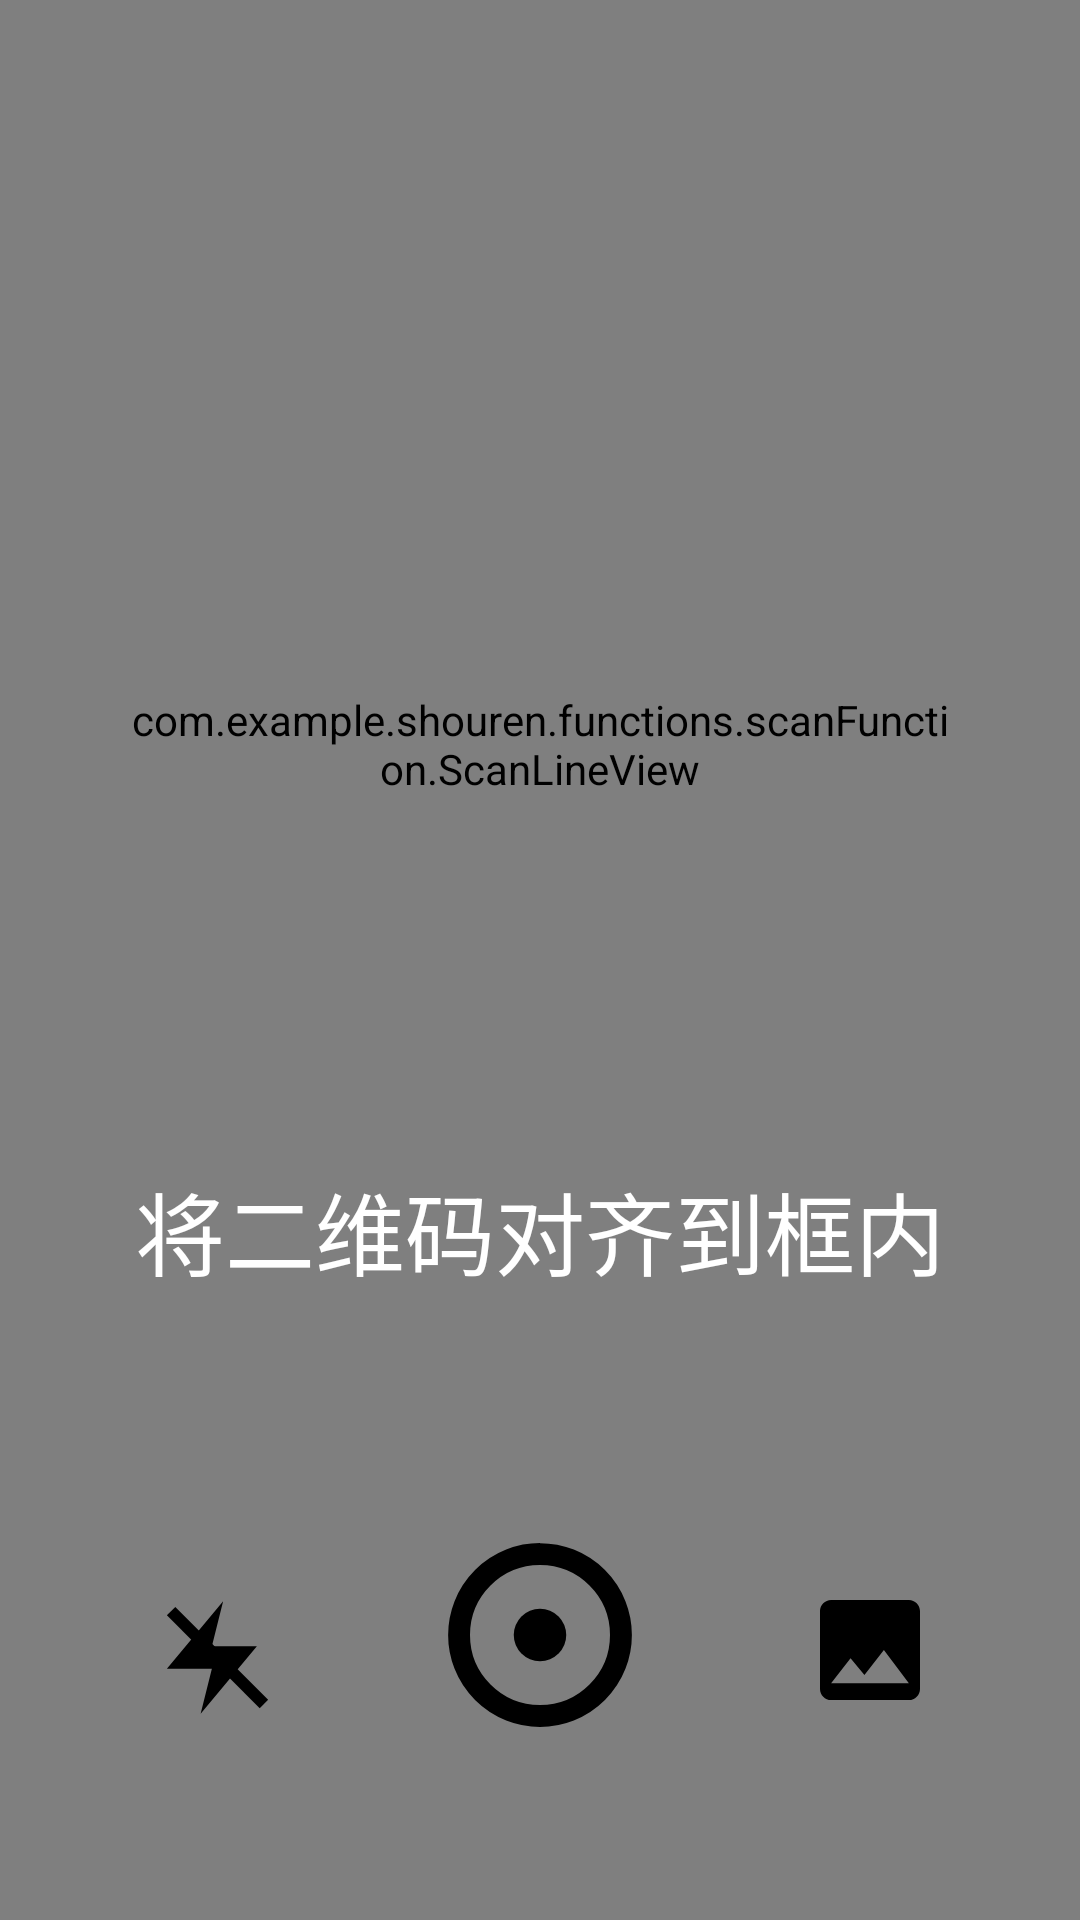

Icon click points for this 1080px×1920px phone screenshot, format point (x, y):
album: point (870, 1650)
camera shutter: point (540, 1635)
flash off: point (217, 1657)
